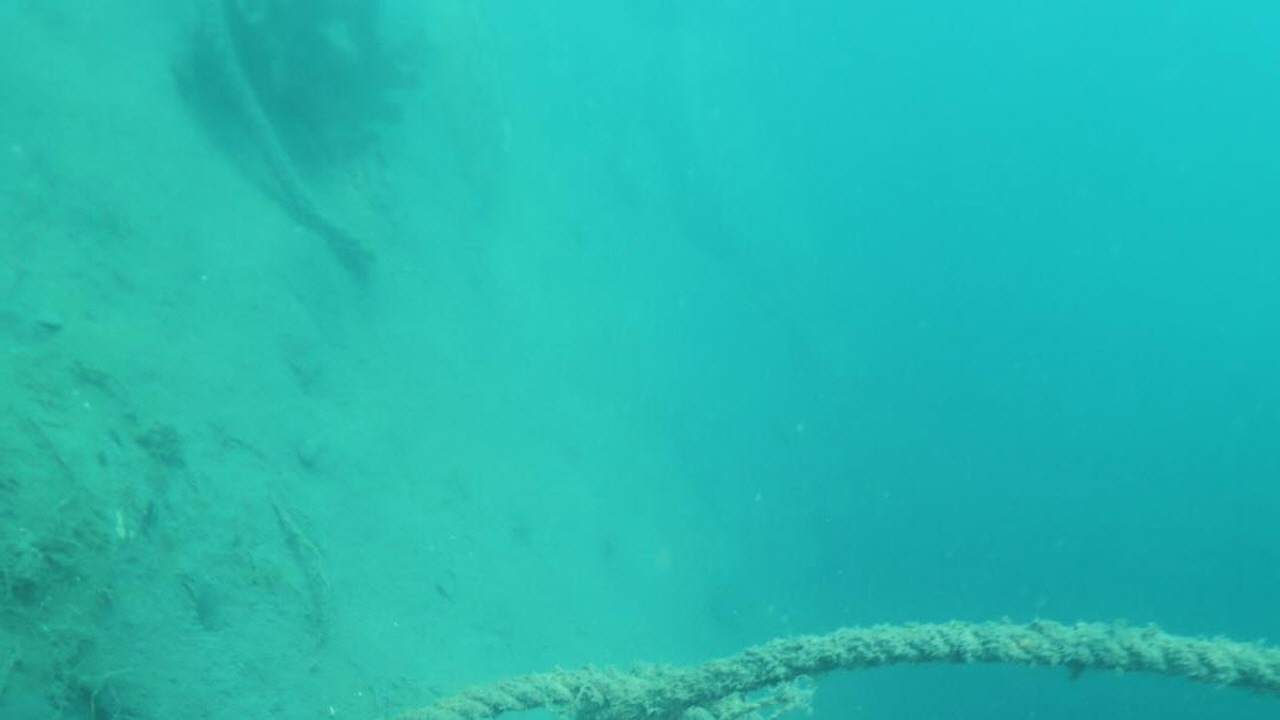rope: (400, 609, 1278, 720)
